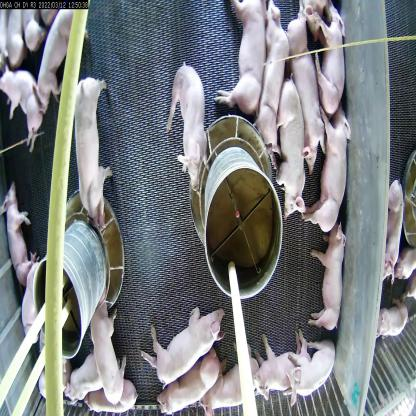Pig: (281, 13, 327, 182), (68, 72, 113, 223), (152, 304, 224, 386), (168, 57, 211, 187), (34, 7, 92, 103), (310, 106, 350, 230), (231, 0, 267, 133), (314, 223, 356, 331), (279, 82, 313, 214), (88, 299, 130, 405), (286, 327, 336, 416), (259, 3, 286, 166), (315, 7, 349, 122), (2, 69, 45, 155), (4, 171, 36, 284), (162, 353, 216, 416), (201, 363, 263, 415), (255, 339, 304, 402), (63, 362, 103, 403)
